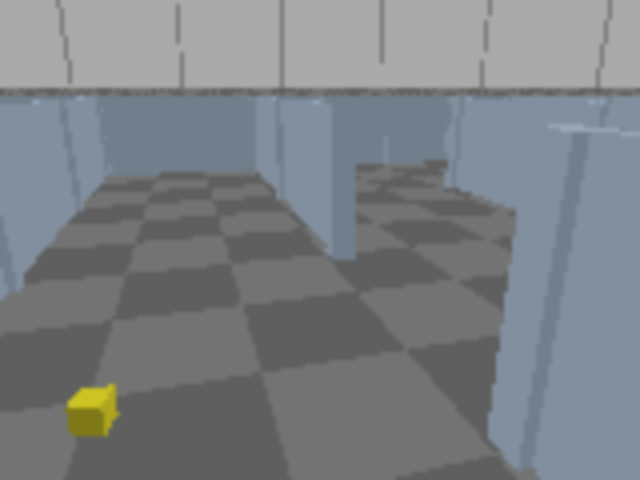puck: (65, 386, 118, 437)
